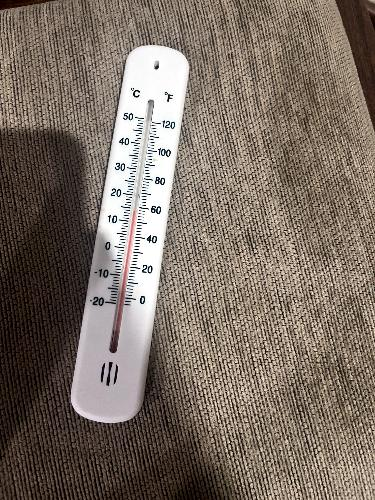thermo: (65, 42, 205, 420)
